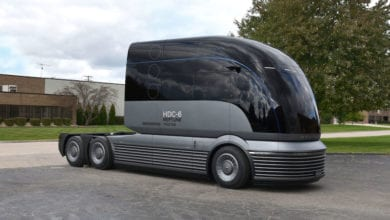truck: (40, 29, 343, 191)
